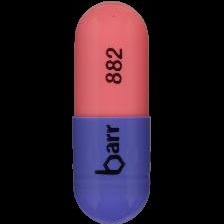54868-4773: (0, 0, 224, 224)
